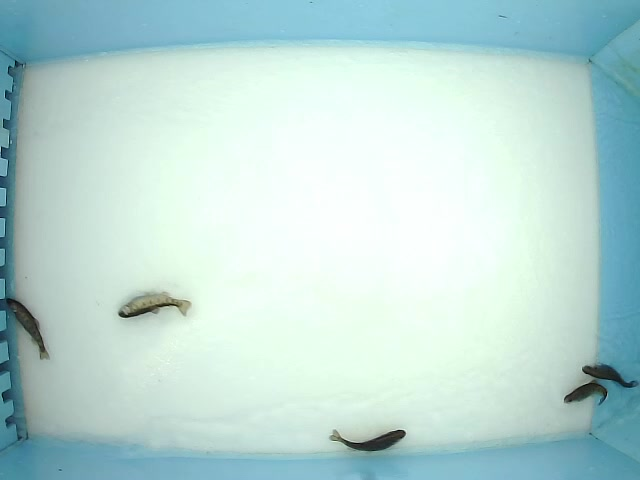fish: (5, 292, 54, 362), (115, 286, 196, 328), (330, 414, 409, 454), (583, 357, 639, 390), (561, 379, 612, 406)
